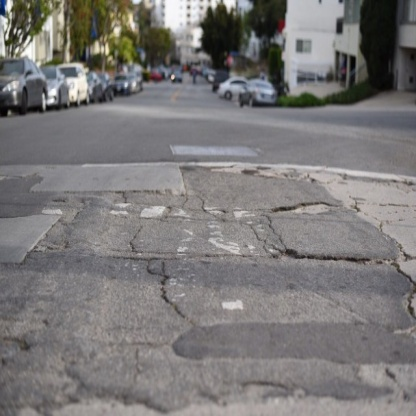pothole: (258, 239, 414, 281), (219, 154, 332, 186), (251, 192, 357, 224)
